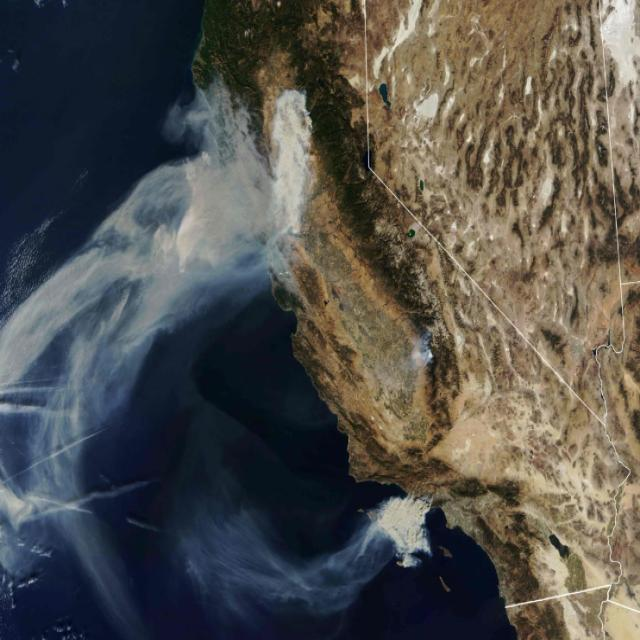methane: (0, 84, 275, 574), (270, 89, 311, 235), (367, 496, 430, 568)
old_road: (421, 223, 599, 419), (601, 17, 624, 354), (506, 584, 611, 608)
water: (0, 0, 521, 640)
